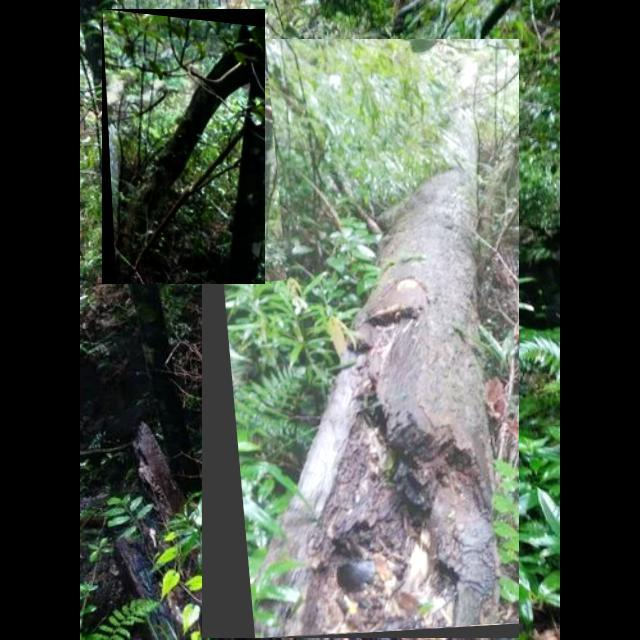fallen_tree: (202, 39, 520, 639), (102, 9, 266, 285)
